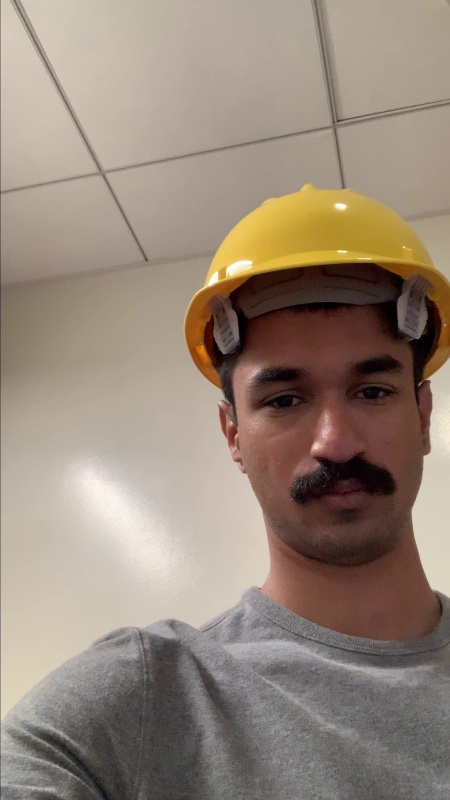helmet: (169, 178, 450, 370)
